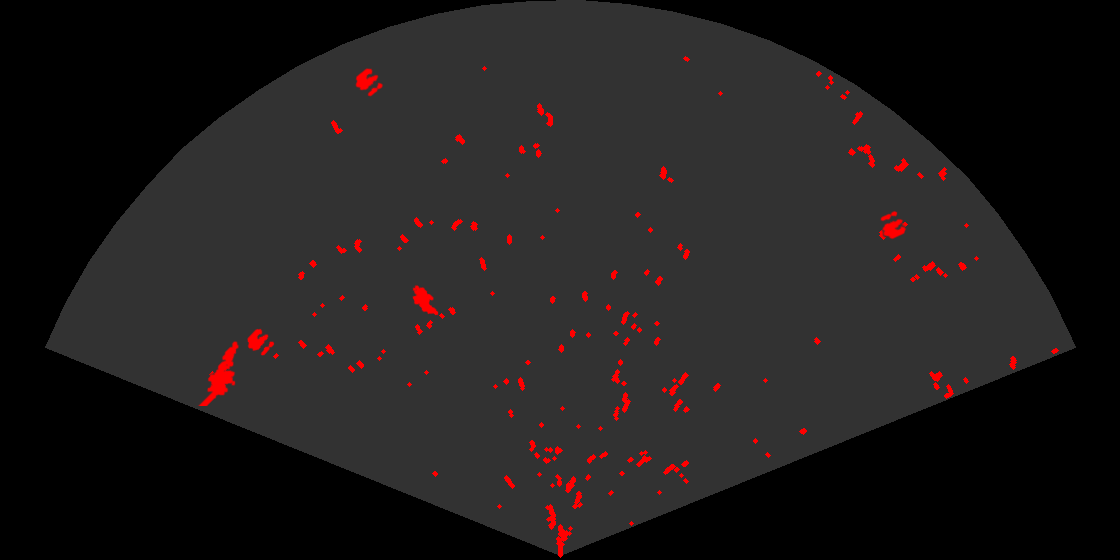AUV: (411, 283, 440, 317)
ball: (354, 67, 385, 98), (879, 209, 908, 241), (246, 327, 276, 357)
frogman: (196, 339, 241, 406)
